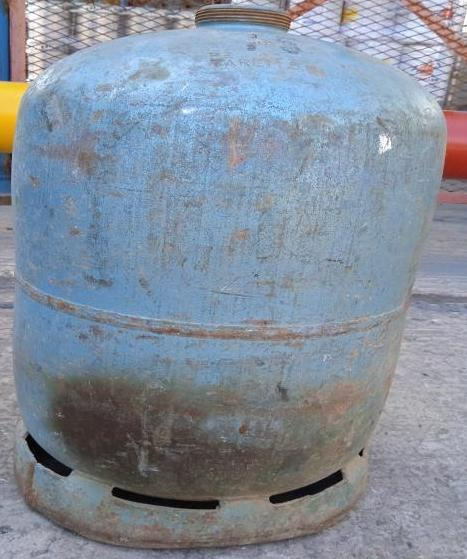cylinder: (1, 1, 467, 559)
